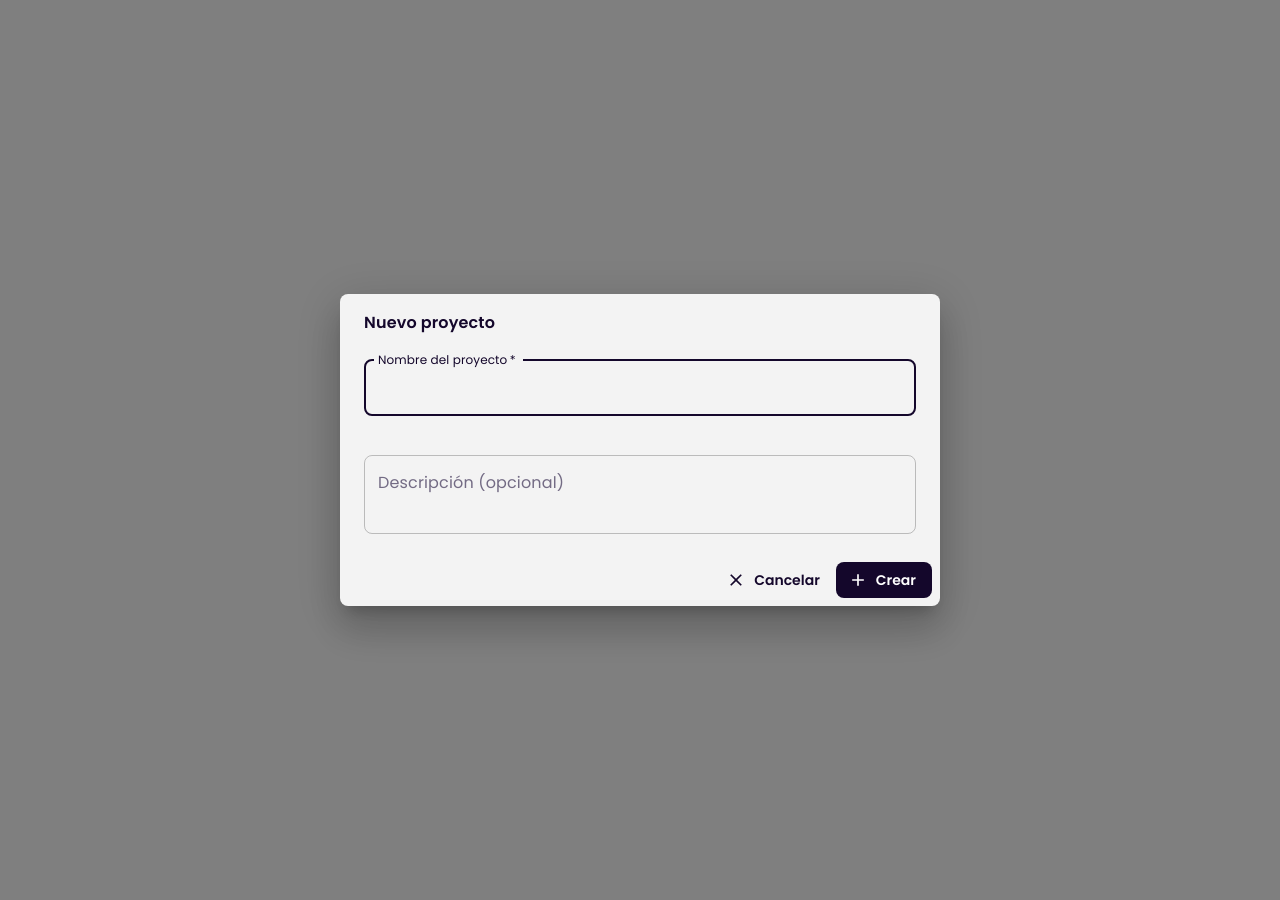
Test: NewProjectDialog › no crea y muestra error cuando el nombre está vacío
Click the button "Crear". click: (884, 580)
box: [836,562,932,598]
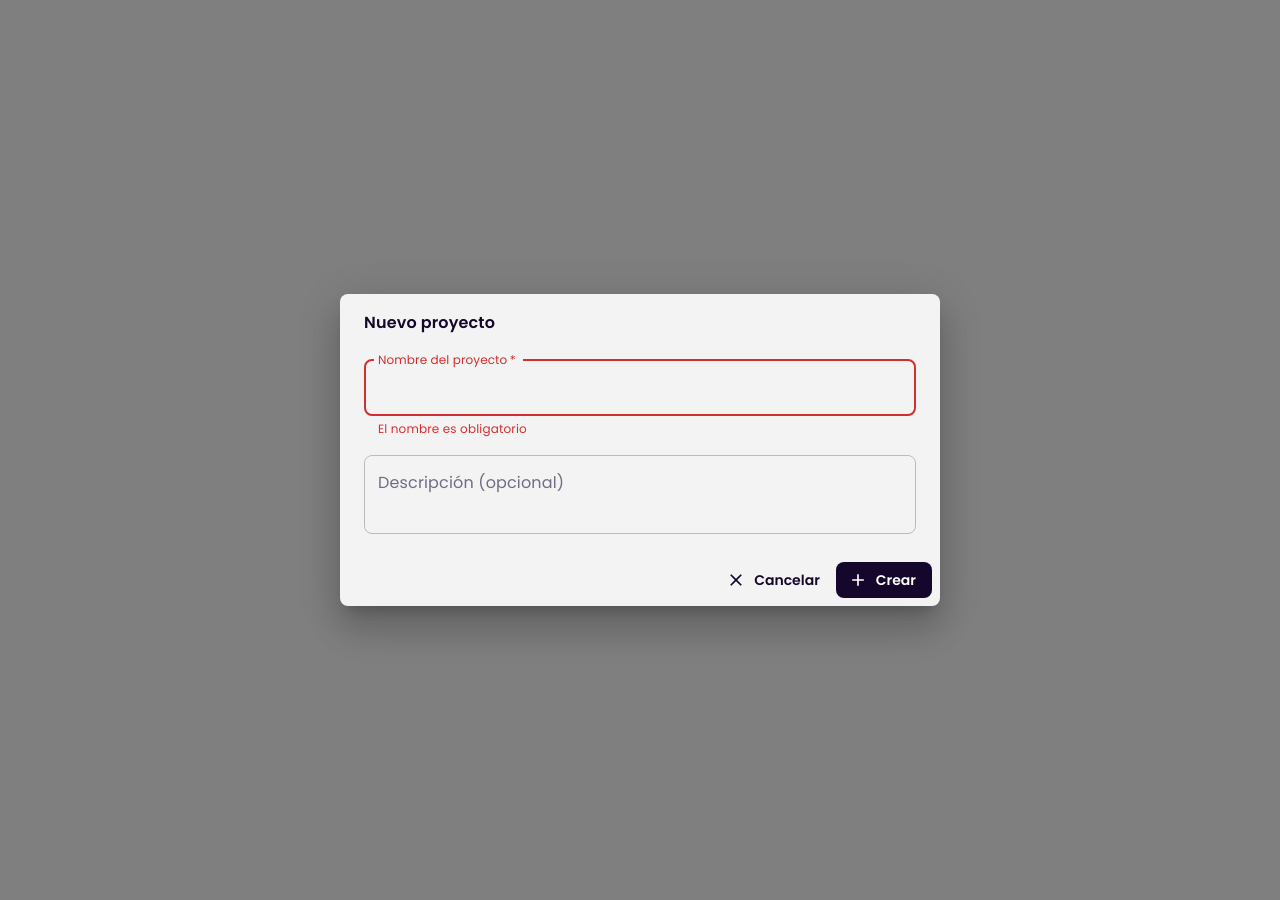
expect the text "El nombre es obligatorio" is shown: met, box [378,420,527,437]
